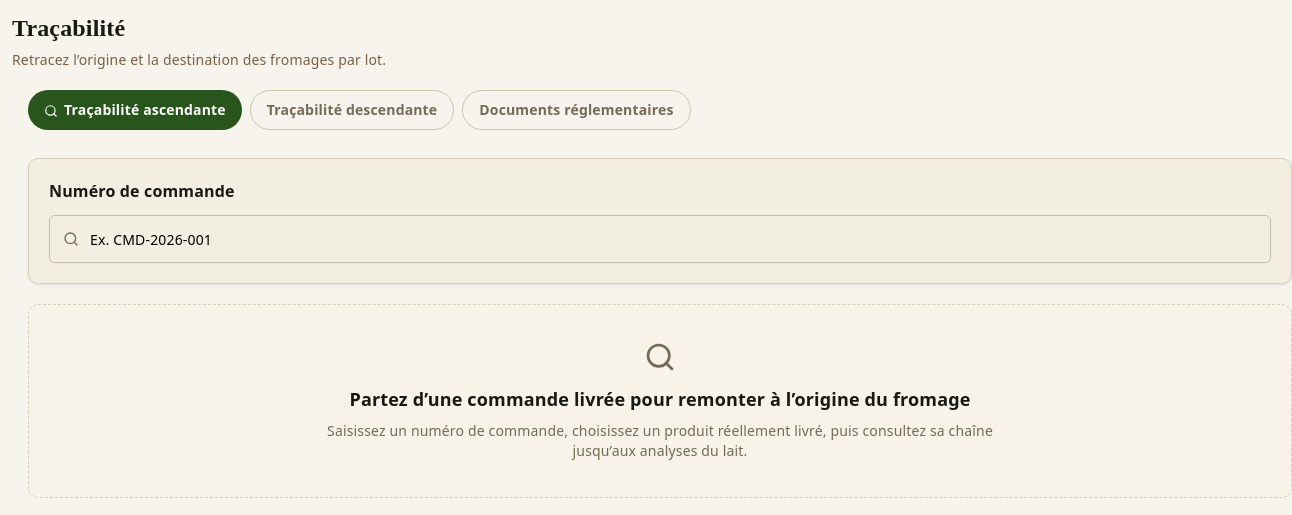
it: recherche de traçabilité › recherche automatiquement après la saisie sans bouton
In the search field labelled "Numéro de commande": (660, 239) [49,215,1271,263], type "CMD-2026-001"
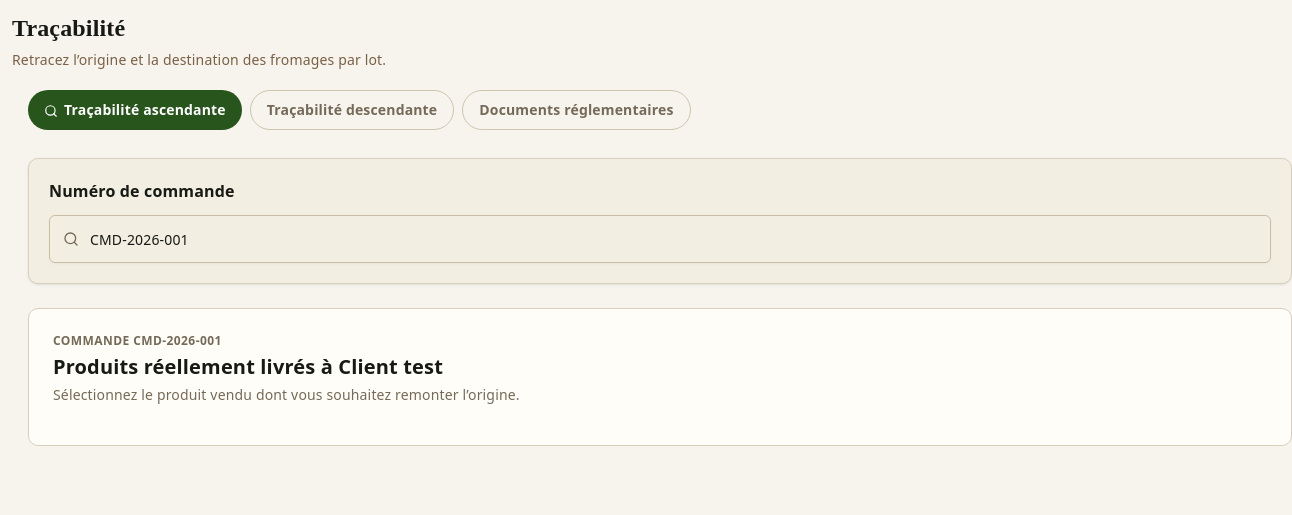
Expected: the text "Commande CMD-2026-001" is shown, [53,332,222,349]
